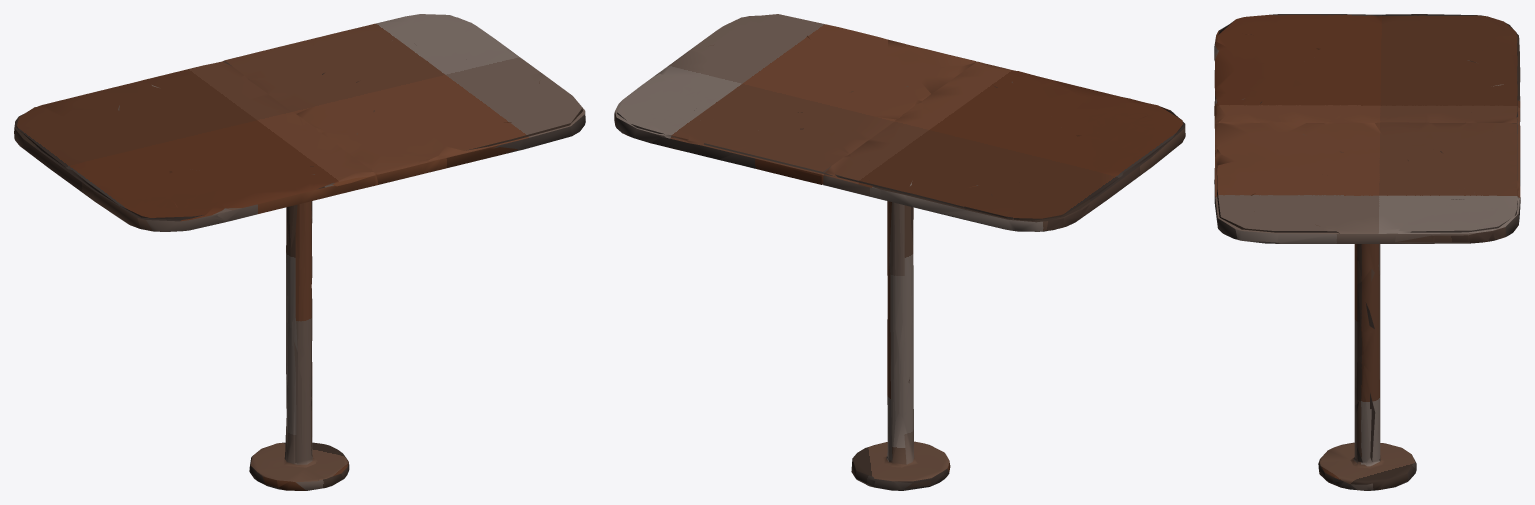
The model's file is cab_table.glb.
3 views of the same model, side by side, from view 1: azimuth 30°, elevation 25°; view 2: azimuth 150°, elevation 25°; view 3: azimuth 270°, elevation 25° (orthographic).
Parts seen in each view (by area): view 1: LO; view 2: LO; view 3: LO.
Part boxes in pixels (box(x1,y1,x2,y2)): LO: box(14, 14, 585, 490); LO: box(614, 14, 1185, 490); LO: box(1214, 14, 1520, 490).
Bounding box in the file's own units: 0.9996 × 0.74 × 0.5893.
Materials: 1 (1 with a texture image).
